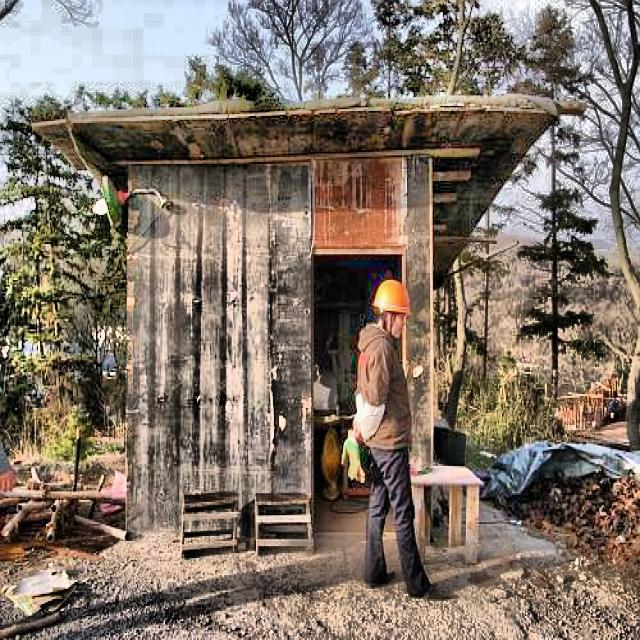helmet: (371, 273, 411, 341)
